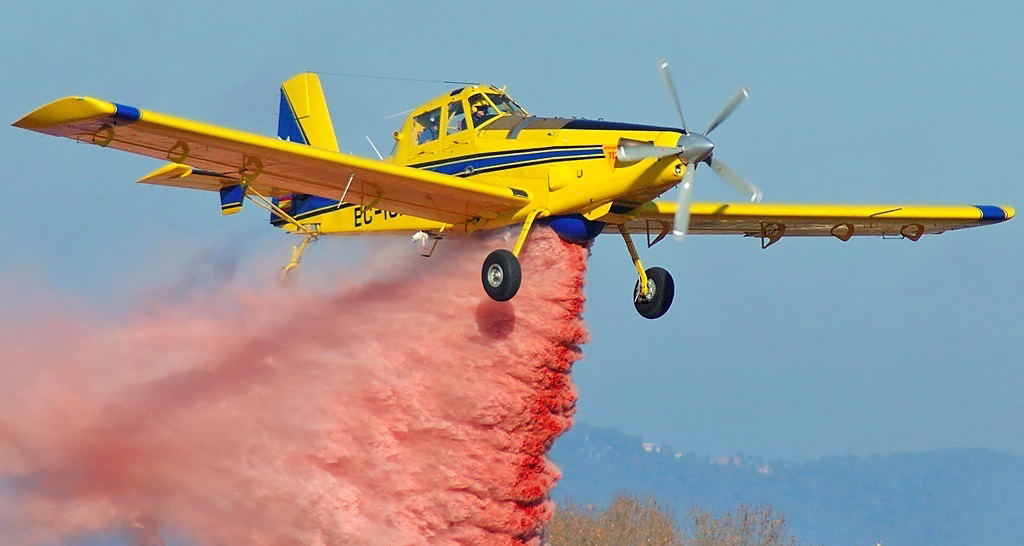Aeronef_de_service: (5, 56, 1020, 326)
